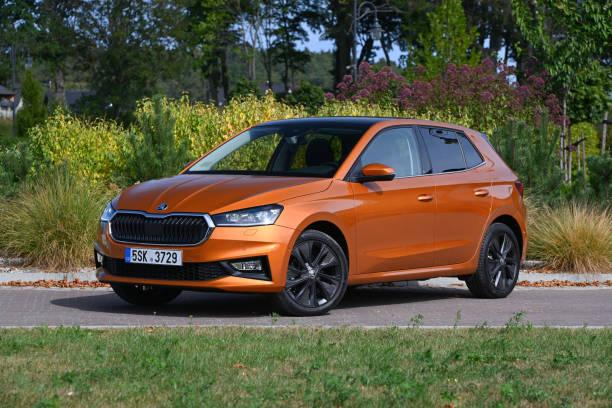skoda: (154, 198, 176, 217)
